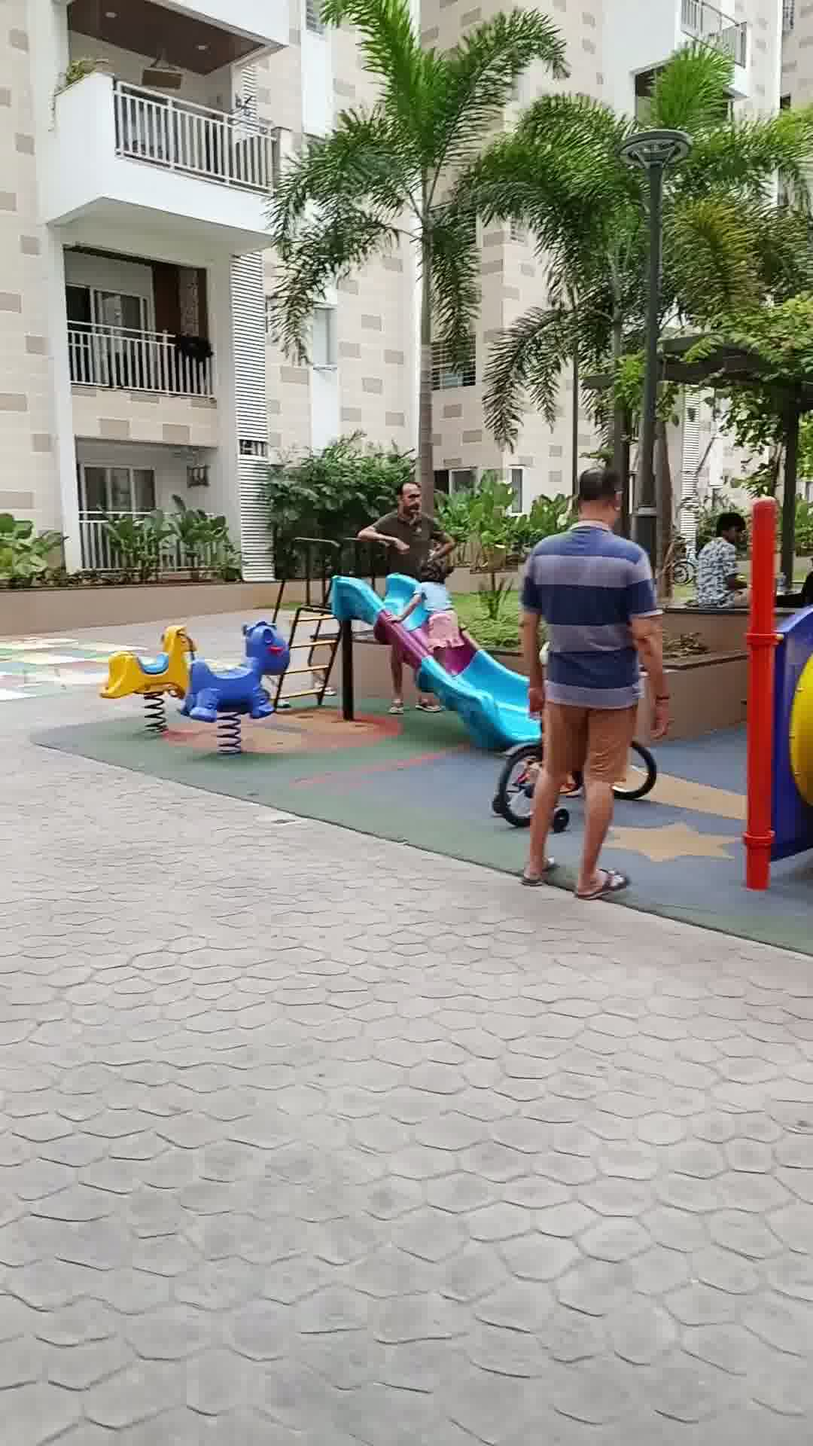bicycle: (475, 709, 703, 823)
person: (521, 433, 643, 908), (339, 424, 450, 729), (390, 544, 469, 675)
tree: (290, 0, 558, 663), (532, 11, 751, 524)
